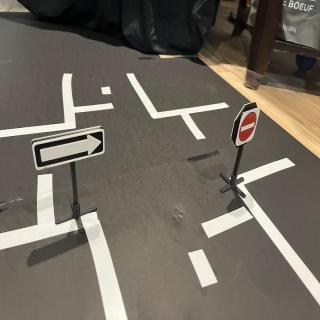sign_noentry: (235, 109, 261, 149)
sign_oneway_right: (34, 127, 107, 173)
